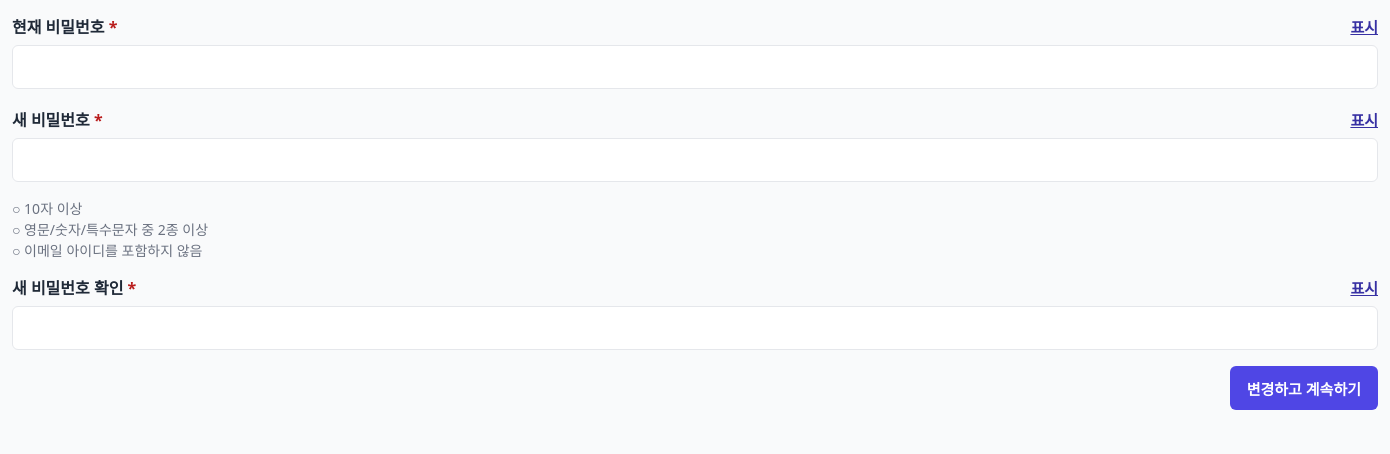
Test: ChangePasswordForm — 401 코드 분기(EX-12-8) › 코드 없는 예상 밖 401은 "현재 비밀번호" 필드에 서버 메시지를 폴백 표시한다(로그아웃하지 않음)
Type "current-pw" into the password field labelled "현재 비밀번호 *".
click(695, 67); type("current-pw")  # box [12,45,1378,89]
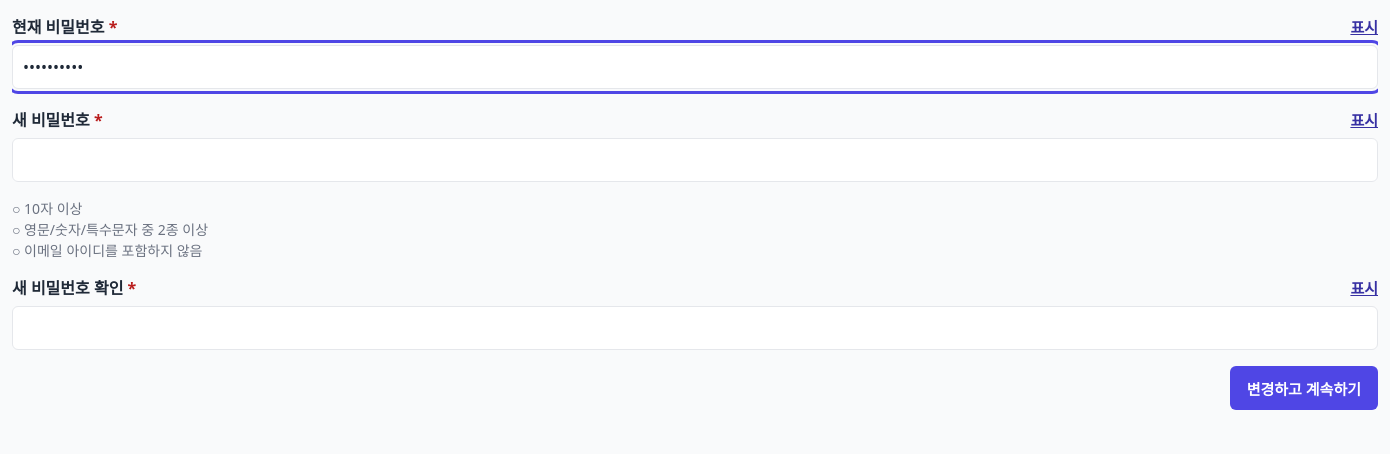
Type "New-Password#123" into the password field labelled "새 비밀번호 *".
click(695, 160); type("New-Password#123")  # box [12,138,1378,182]
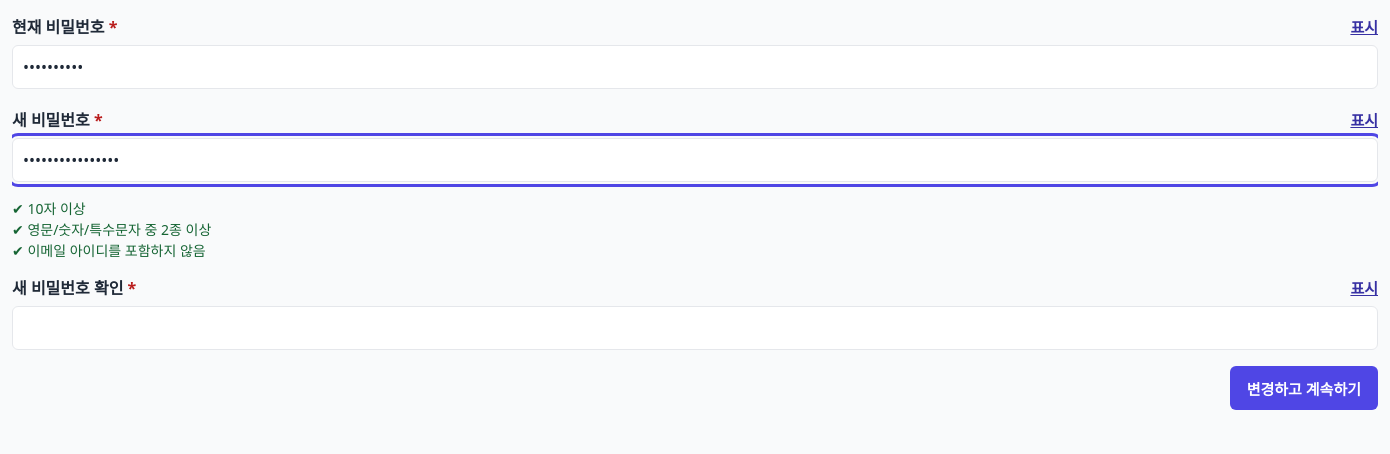
Type "New-Password#123" into the password field labelled "새 비밀번호 확인 *".
click(695, 328); type("New-Password#123")  # box [12,306,1378,350]
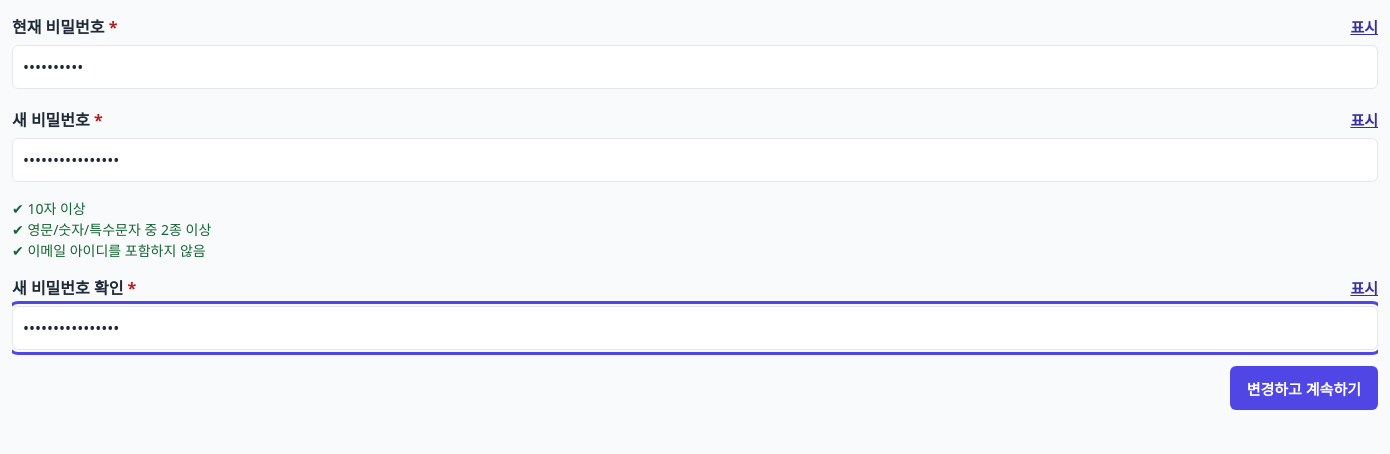
Click the button "변경하고 계속하기".
click(1304, 388)  # box [1230,366,1378,410]
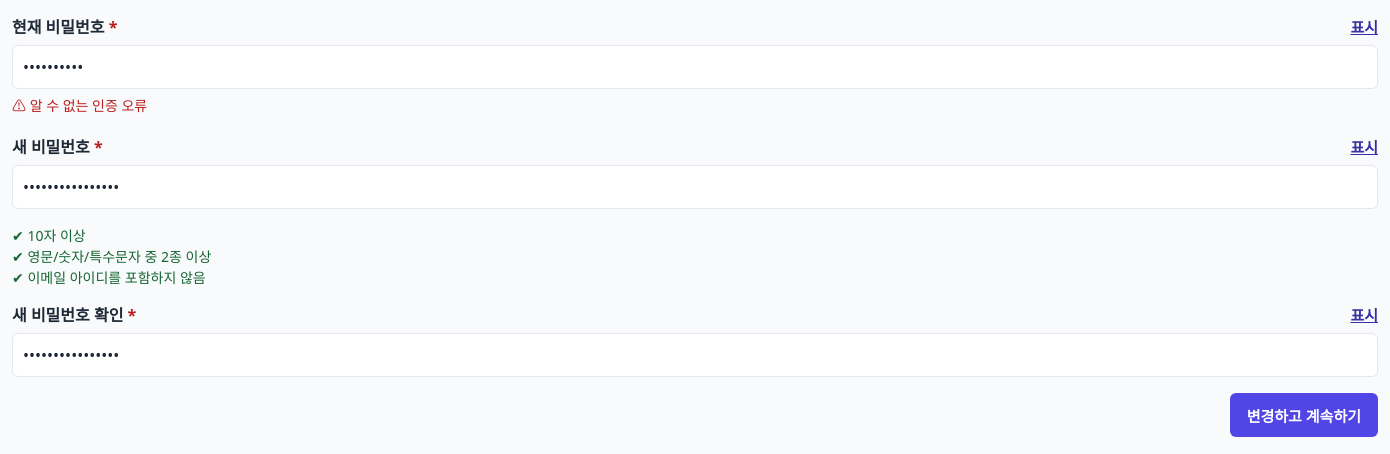
Result: the text "알 수 없는 인증 오류" is shown at [30,96,147,115]
